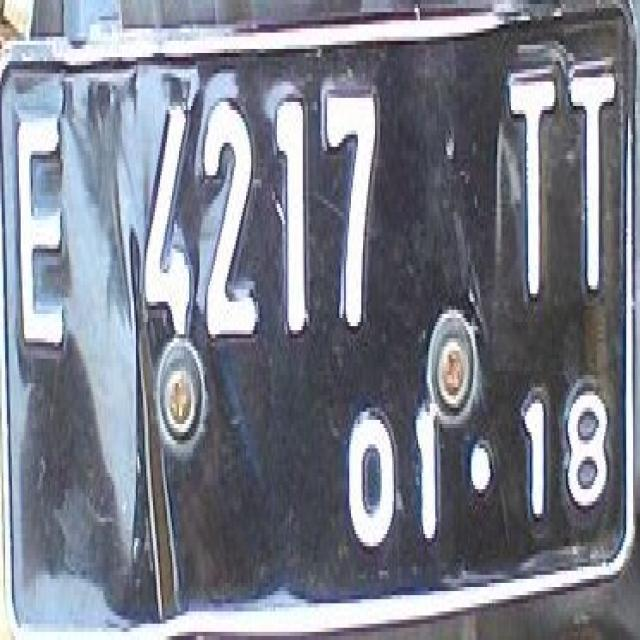plate: (0, 28, 638, 623)
